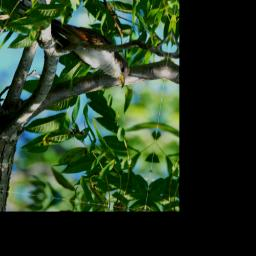Cuckoo: (43, 19, 136, 90)
